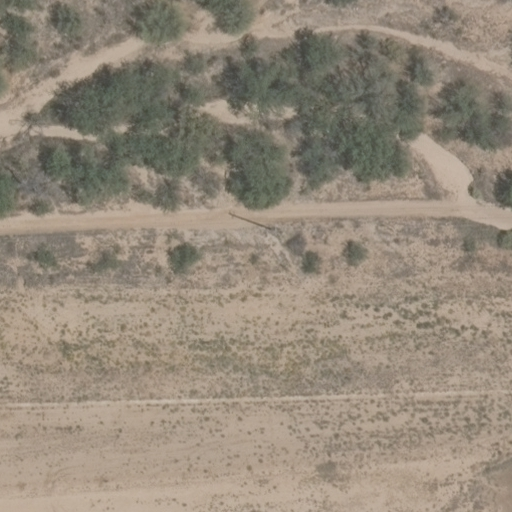DT: (263, 219, 284, 238)
